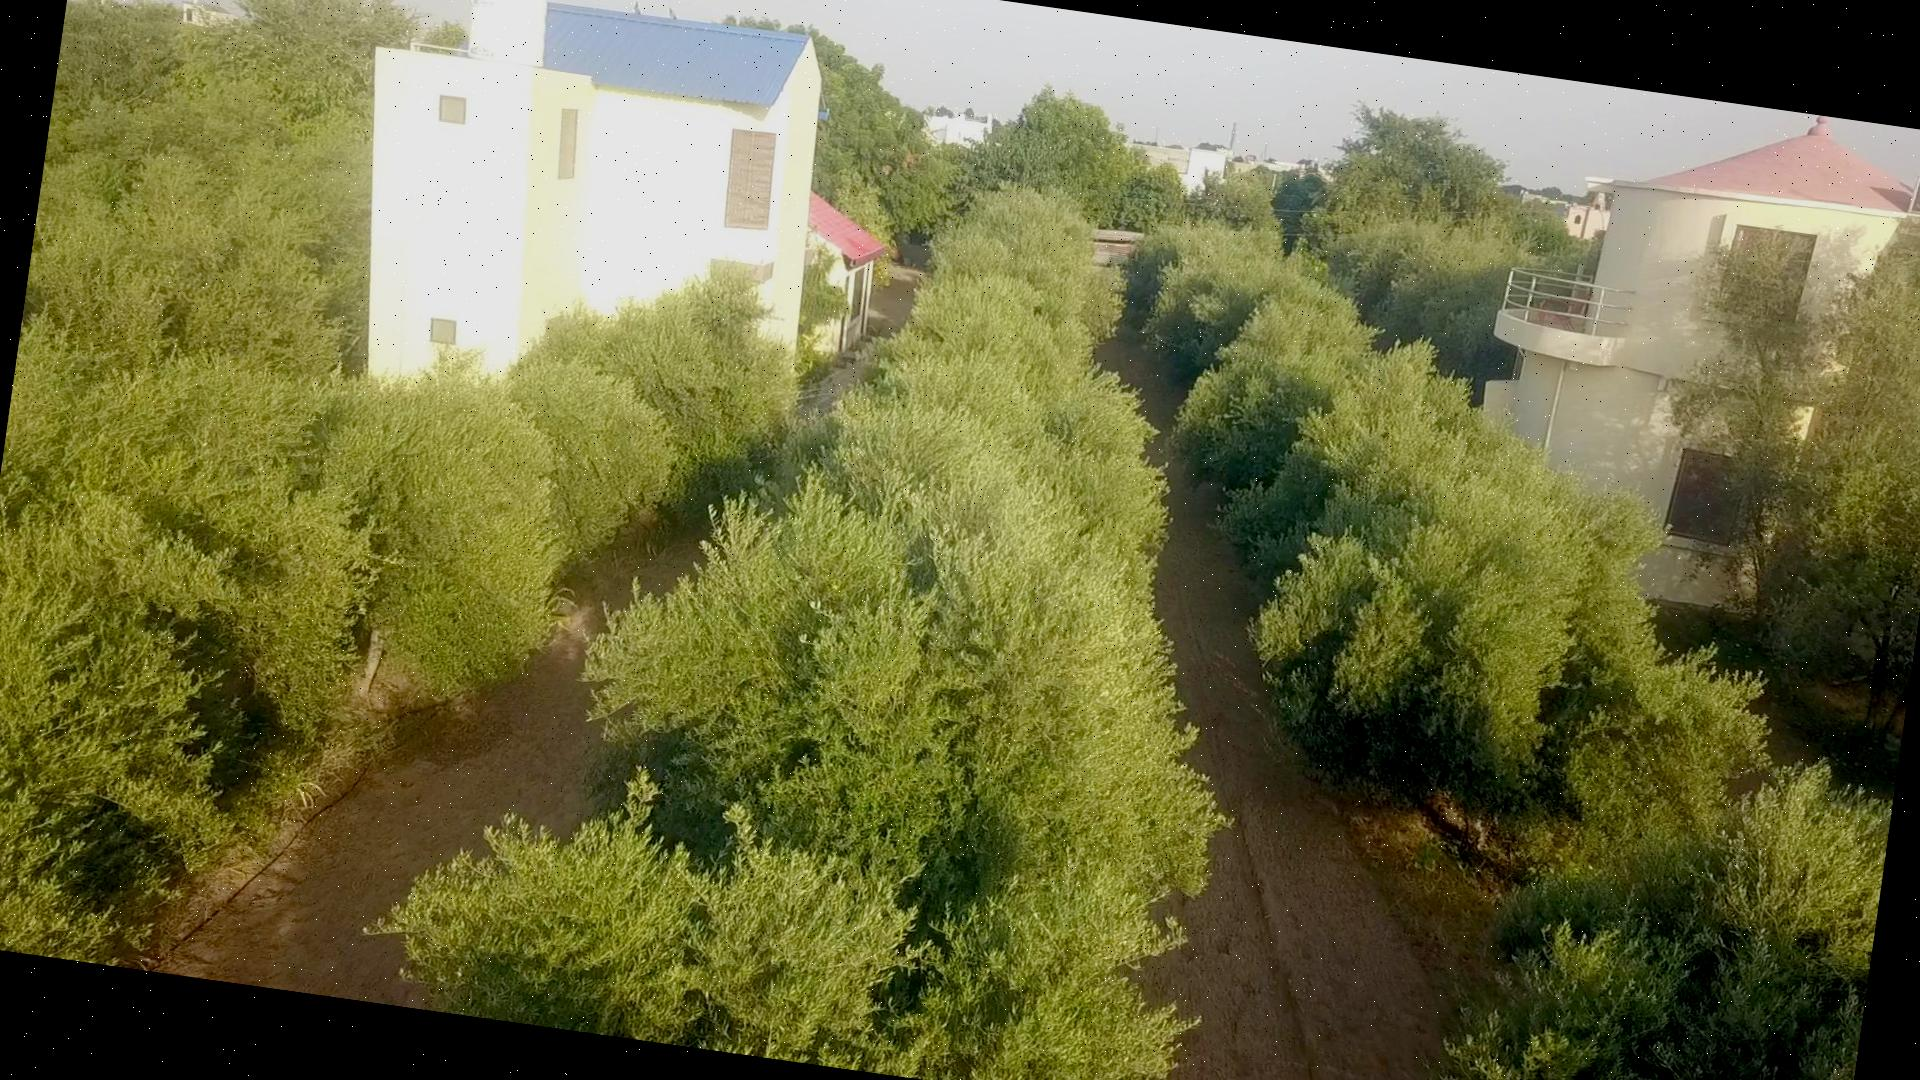canopy: (382, 190, 1224, 1080), (1142, 224, 1891, 1080), (0, 282, 796, 959)
road: (1135, 477, 1452, 1080), (170, 599, 601, 1009)
